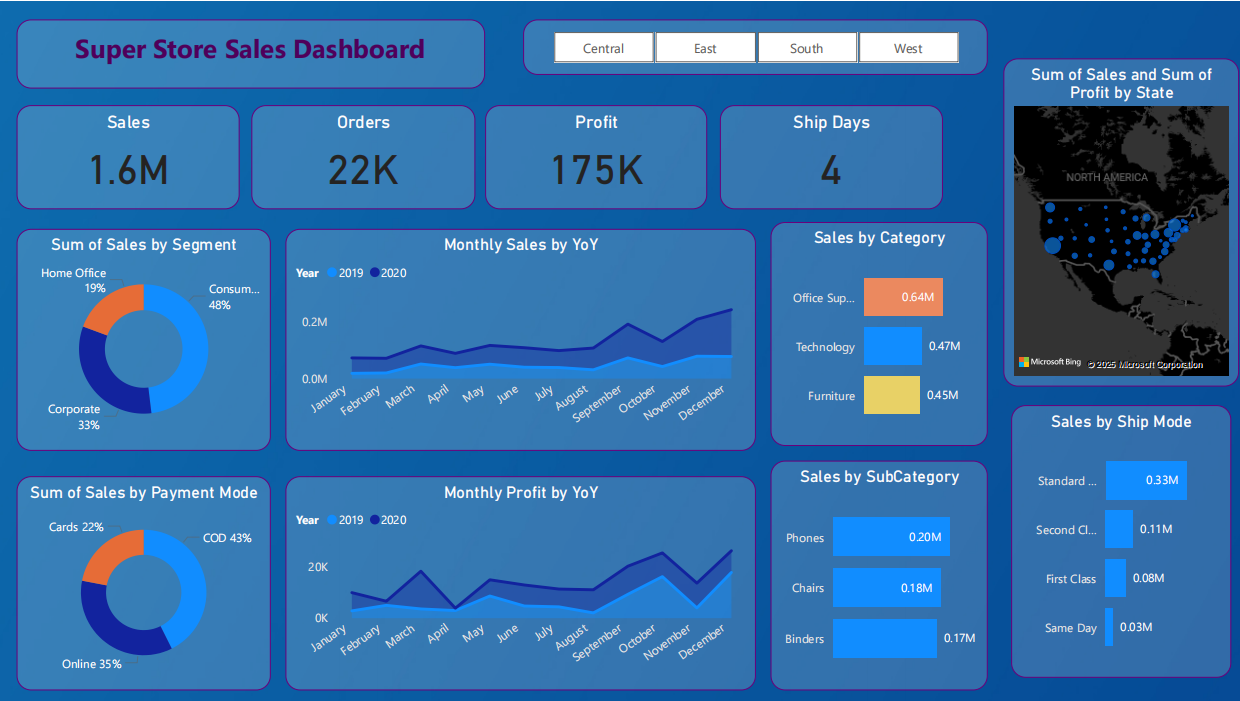

This screenshot's page, from the dashboard's own definition file:
{"tool":"powerbi","page":{"name":"Page 1","canvas":[1280,720],"ordinal":0},"visuals":[{"type":"clusteredBarChart","title":"Sales by Category","fields":{"Category":["SuperStore_Sales_Dataset.Category"],"Y":["Sum(SuperStore_Sales_Dataset.Sales)"]},"box":[791.8,226.4,223.7,229.2],"z":0},{"type":"clusteredBarChart","title":"Sales by SubCategory","fields":{"Y":["Sum(SuperStore_Sales_Dataset.Sales)"],"Category":["SuperStore_Sales_Dataset.Sub-Category"]},"box":[791.8,470.7,223.7,236],"z":1000},{"type":"clusteredBarChart","title":"Sales by Ship Mode","fields":{"Y":["Sum(SuperStore_Sales_Dataset.Sales)"],"Category":["SuperStore_Sales_Dataset.Ship Mode"]},"box":[1038.8,414.4,226.4,279.9],"z":2000},{"type":"stackedAreaChart","title":"Monthly Sales by YoY","fields":{"Y":["Sum(SuperStore_Sales_Dataset.Sales)"],"Category":["SuperStore_Sales_Dataset.Order Date.Variation.Date Hierarchy.Month","SuperStore_Sales_Dataset.Order Date.Variation.Date Hierarchy.Day"],"Series":["SuperStore_Sales_Dataset.Order Date.Variation.Date Hierarchy.Year"]},"box":[293.7,233.3,483,227.8],"z":3000},{"type":"stackedAreaChart","title":"Monthly Profit by YoY","fields":{"Category":["SuperStore_Sales_Dataset.Order Date.Variation.Date Hierarchy.Month","SuperStore_Sales_Dataset.Order Date.Variation.Date Hierarchy.Day"],"Series":["SuperStore_Sales_Dataset.Order Date.Variation.Date Hierarchy.Year"],"Y":["Sum(SuperStore_Sales_Dataset.Profit)"]},"box":[293.7,487.1,483,219.6],"z":4000},{"type":"map","fields":{"Category":["SuperStore_Sales_Dataset.State"],"Size":["Sum(SuperStore_Sales_Dataset.Sales)"]},"box":[1030.5,57.6,242.9,337.6],"z":5000},{"type":"donutChart","fields":{"Category":["SuperStore_Sales_Dataset.Segment"],"Y":["Sum(SuperStore_Sales_Dataset.Sales)"]},"box":[17.8,233.3,260.7,227.8],"z":6000},{"type":"donutChart","fields":{"Category":["SuperStore_Sales_Dataset.Payment Mode"],"Y":["Sum(SuperStore_Sales_Dataset.Sales)"]},"box":[17.8,487.1,260.7,219.6],"z":7000},{"type":"slicer","fields":{"Values":["SuperStore_Sales_Dataset.Region"]},"box":[537.9,17.8,477.5,57.6],"z":8000},{"type":"textbox","box":[17.8,17.8,481.6,71],"z":9000},{"type":"card","title":"Sales","fields":{"Values":["Sum(SuperStore_Sales_Dataset.Sales)"]},"box":[17.8,105.7,229.2,107],"z":10000},{"type":"card","title":"Orders","fields":{"Values":["Sum(SuperStore_Sales_Dataset.Quantity)"]},"box":[259.3,105.7,229.2,107],"z":11000},{"type":"card","title":"Profit","fields":{"Values":["Sum(SuperStore_Sales_Dataset.Profit)"]},"box":[499.5,105.7,227.8,107],"z":12000},{"type":"card","title":"Ship Days","fields":{"Values":["Avg(SuperStore_Sales_Dataset.AvgDelivery)"]},"box":[739.6,105.7,229.2,107],"z":13000}]}

Visuals, with their boxes in screenshot pixels (x1, y1, x2, y2), scaled from the page's 1280x720 canvas onto the 1240x701 screenshot:
"Sales by Category" clusteredBarChart: l=767, t=220, r=984, b=444
"Sales by SubCategory" clusteredBarChart: l=767, t=458, r=984, b=688
"Sales by Ship Mode" clusteredBarChart: l=1006, t=403, r=1226, b=676
"Monthly Sales by YoY" stackedAreaChart: l=285, t=227, r=752, b=449
"Monthly Profit by YoY" stackedAreaChart: l=285, t=474, r=752, b=688
map - SuperStore_Sales_Dataset.State x Sum(SuperStore_Sales_Dataset.Sales): l=998, t=56, r=1234, b=385
donutChart - SuperStore_Sales_Dataset.Segment x Sum(SuperStore_Sales_Dataset.Sales): l=17, t=227, r=270, b=449
donutChart - SuperStore_Sales_Dataset.Payment Mode x Sum(SuperStore_Sales_Dataset.Sales): l=17, t=474, r=270, b=688
slicer - SuperStore_Sales_Dataset.Region: l=521, t=17, r=984, b=73
textbox: l=17, t=17, r=484, b=86
"Sales" card: l=17, t=103, r=239, b=207
"Orders" card: l=251, t=103, r=473, b=207
"Profit" card: l=484, t=103, r=705, b=207
"Ship Days" card: l=716, t=103, r=939, b=207
